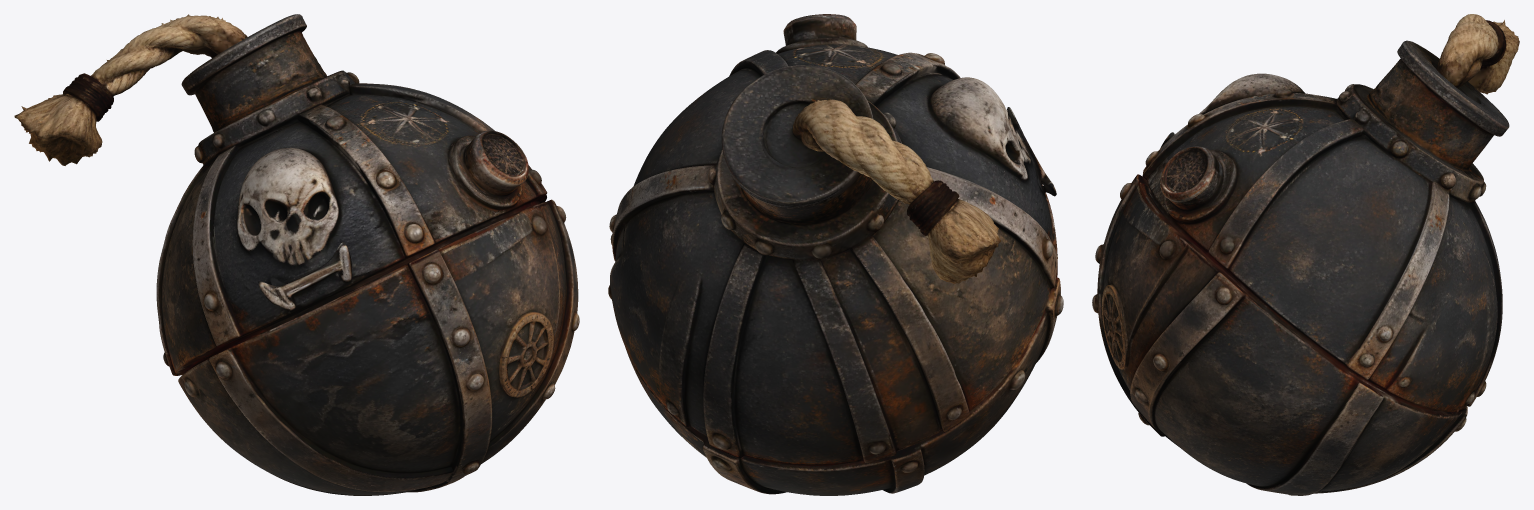
The model's file is bomb.glb.
3 renders of one model, left to right at view 1: azimuth 30°, elevation 25°; view 2: azimuth 150°, elevation 25°; view 3: azimuth 270°, elevation 25°, orthographic. The views are drawn at different scales.
Visible parts, largest first — view 1: node_0; view 2: node_0; view 3: node_0.
Boxes of the visible parts, bbox=[...] form: node_0: bbox=[14, 14, 579, 495]; node_0: bbox=[608, 14, 1063, 495]; node_0: bbox=[1092, 14, 1519, 495].
Size of the model in its own units: 0.8316 by 0.8077 by 0.7506.
Materials: 1 (1 with a texture image).
